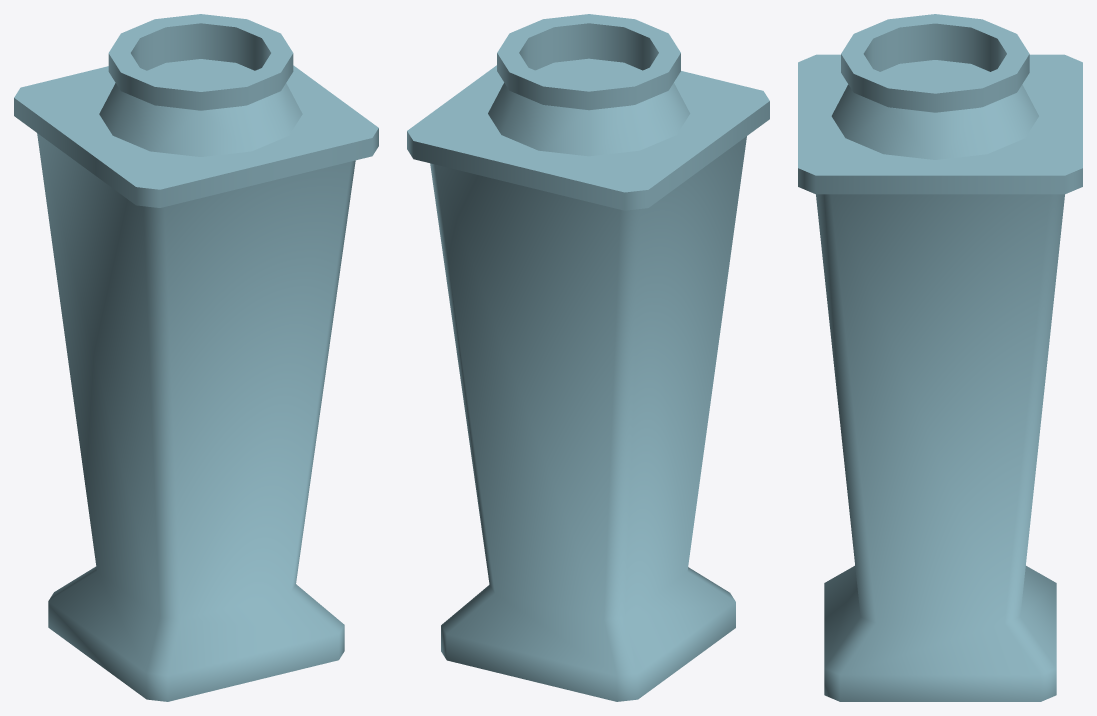
Rendered from lo_Prop_Vase_B.fbx.
3 views of the same model, side by side, from view 1: azimuth 30°, elevation 25°; view 2: azimuth 150°, elevation 25°; view 3: azimuth 270°, elevation 25° (orthographic). The views are drawn at different scales.
Parts seen in each view (by area): view 1: lo_Prop_Vase_B_LOD0; view 2: lo_Prop_Vase_B_LOD0; view 3: lo_Prop_Vase_B_LOD0.
Part boxes in pixels (<box>): lo_Prop_Vase_B_LOD0: <box>14,14,378,701</box>; lo_Prop_Vase_B_LOD0: <box>407,14,769,701</box>; lo_Prop_Vase_B_LOD0: <box>798,14,1082,701</box>.
Size of what is drawn, in the model's own units: 0.3339 by 0.7724 by 0.3324.
